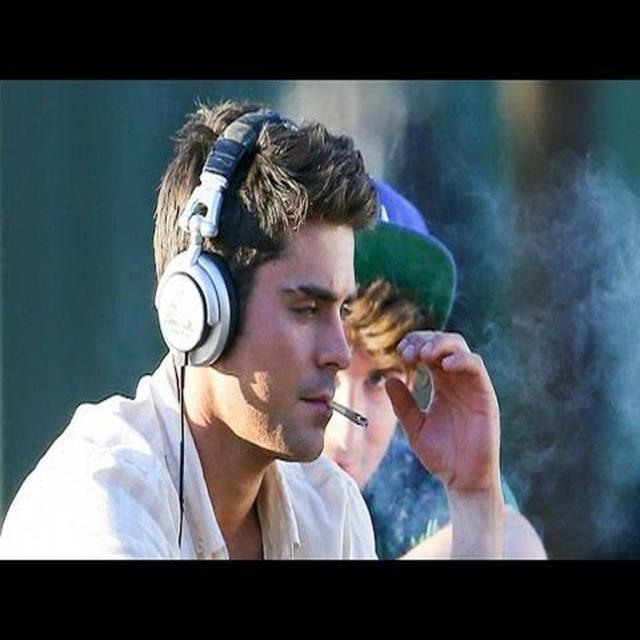smoking: (142, 101, 372, 467)
